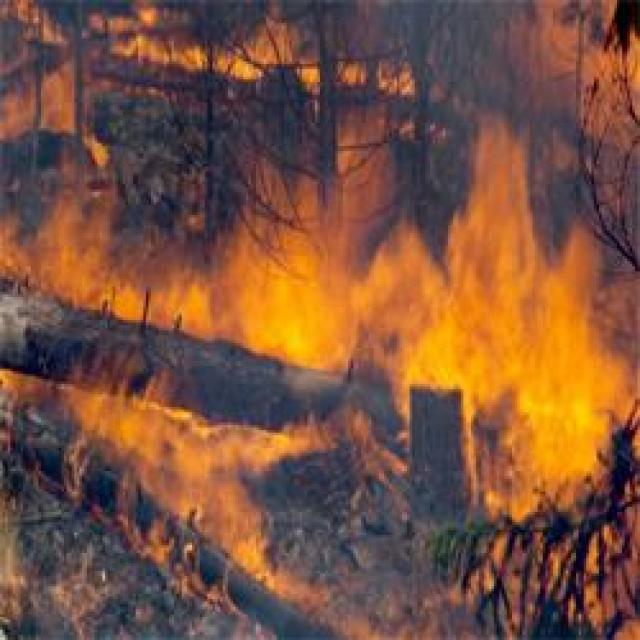fire: (462, 241, 544, 381), (260, 293, 326, 349), (408, 300, 453, 377), (559, 352, 589, 444), (560, 262, 586, 336), (384, 253, 424, 282), (186, 288, 208, 325), (536, 394, 554, 430)
smoke: (497, 38, 558, 111)
